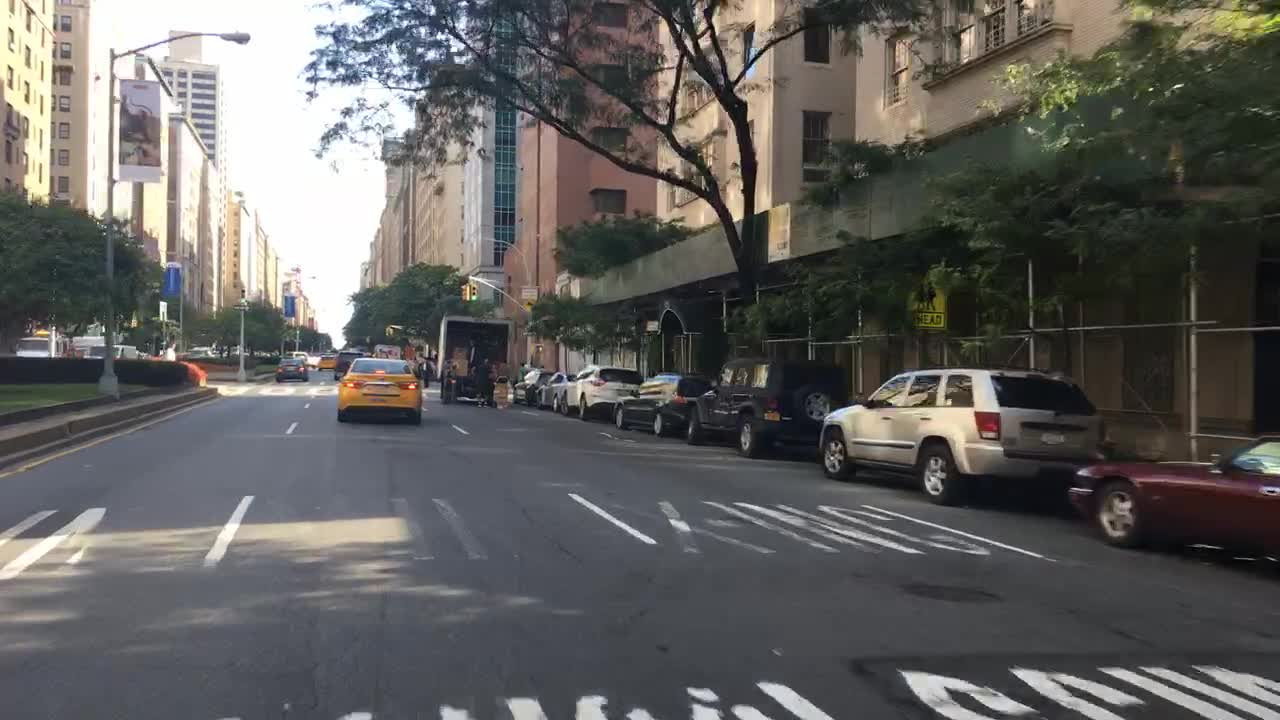car: (813, 365, 1108, 503), (1069, 430, 1279, 574), (676, 356, 854, 458), (611, 369, 715, 438), (335, 356, 427, 427), (557, 364, 644, 418), (529, 371, 578, 410), (510, 365, 553, 405), (11, 334, 68, 361), (331, 348, 364, 381), (273, 356, 311, 383), (281, 348, 310, 362), (316, 351, 336, 371), (185, 343, 212, 357), (224, 345, 241, 356), (307, 353, 318, 365)
traffic light: (458, 283, 466, 299), (470, 283, 477, 299)
traffic sign: (904, 277, 947, 334), (519, 287, 539, 299)
truck: (432, 313, 520, 406), (79, 342, 141, 358), (371, 342, 402, 361)
